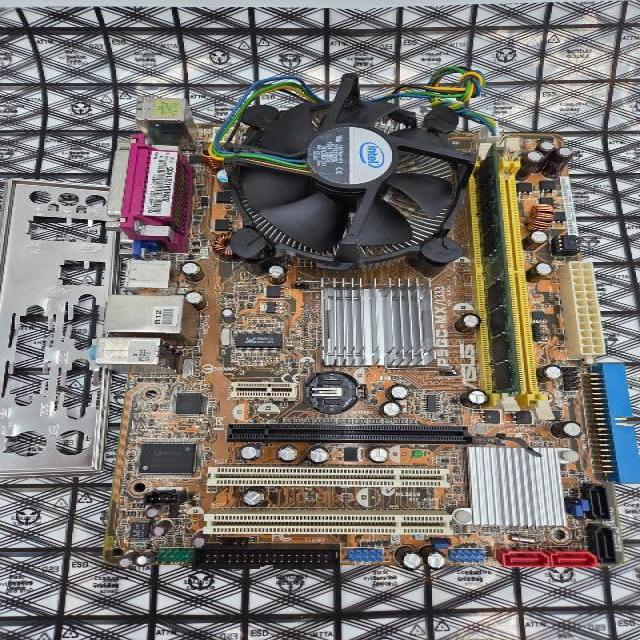CPU_Fan: (214, 71, 479, 271)
